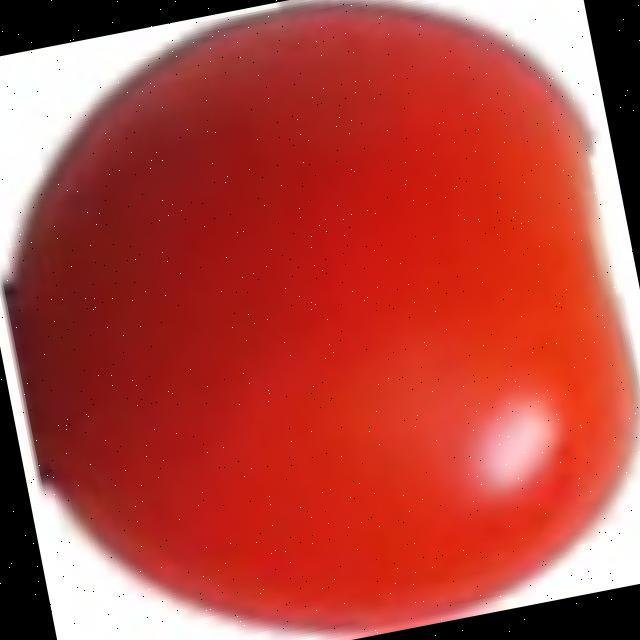tomato: (5, 6, 637, 627)
